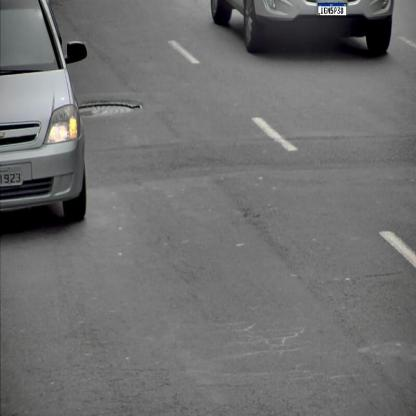PlacaM: (318, 3, 347, 16)
